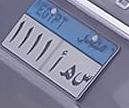1: (32, 37, 63, 61), (27, 28, 44, 57), (23, 23, 38, 51), (15, 16, 26, 44)
أ: (41, 48, 71, 71)
س: (69, 71, 95, 90)
ه: (56, 63, 82, 74)
